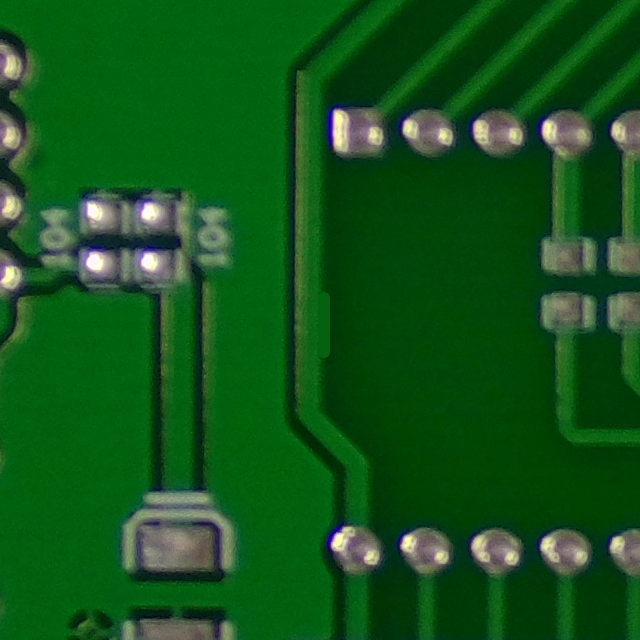spur: (291, 273, 350, 368), (615, 578, 640, 640)
